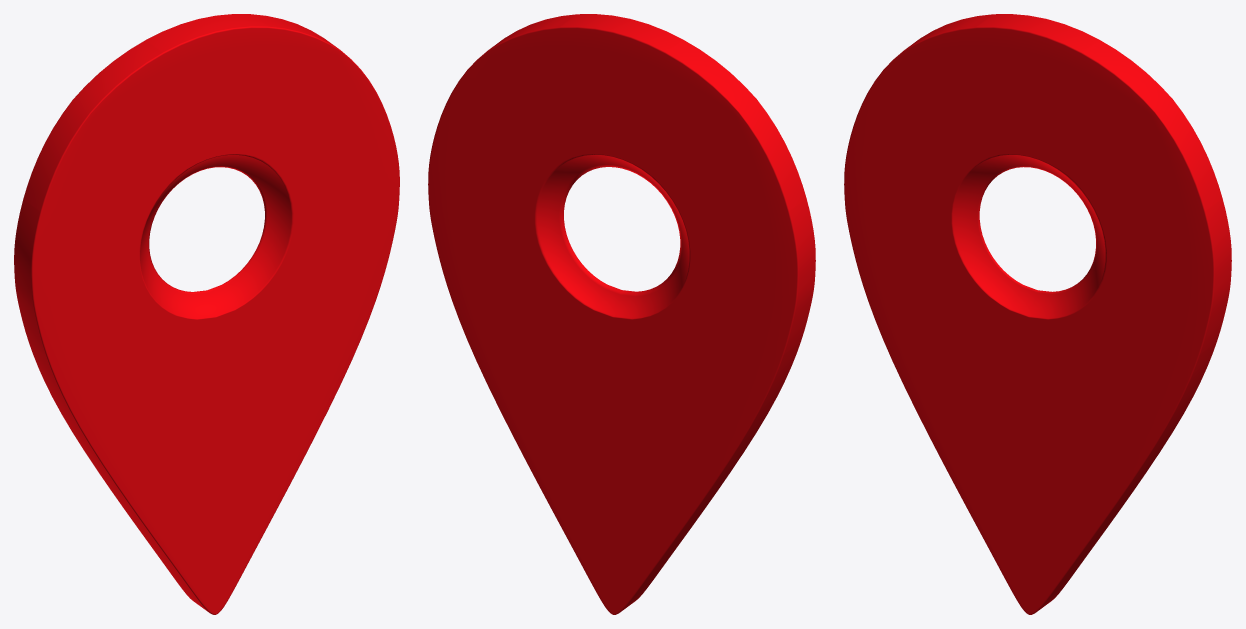
The model's file is RedMarker.glb.
3 views of the same model, side by side, from view 1: azimuth 30°, elevation 25°; view 2: azimuth 150°, elevation 25°; view 3: azimuth 330°, elevation 25° (orthographic).
Parts seen in each view (by area): view 1: node_id32, node_id35; view 2: node_id32, node_id35; view 3: node_id32, node_id35.
Boxes of the visible parts, x1,y1,x2,y2 form: node_id32: [14, 14, 399, 614]; node_id35: [140, 155, 291, 318]; node_id32: [428, 14, 815, 614]; node_id35: [536, 155, 689, 318]; node_id32: [844, 14, 1231, 614]; node_id35: [953, 155, 1105, 318].
Bounding box in the file's own units: 0.3395 × 0.512 × 0.0306.
2 materials, 2 textured.
